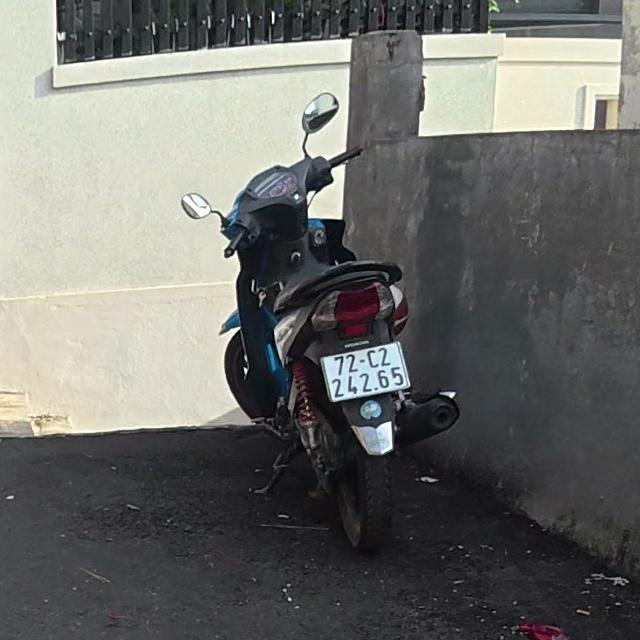motorcycle: (178, 92, 468, 554)
plate: (318, 340, 408, 402)
